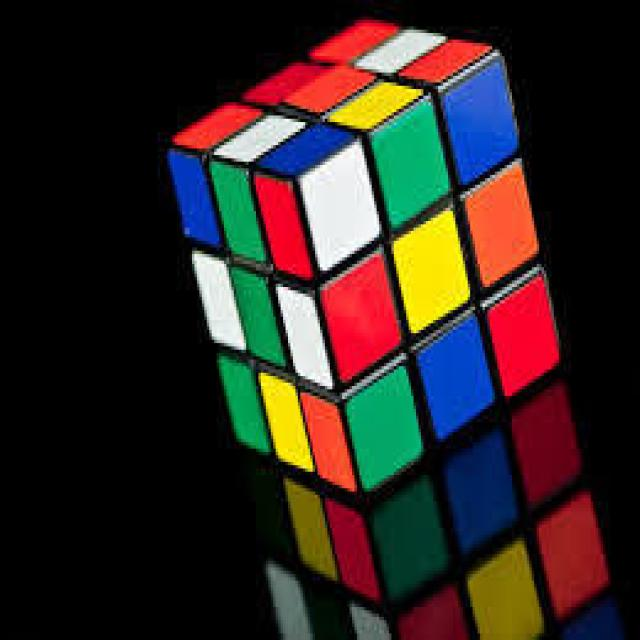Cubo-No-resuelto: (167, 20, 556, 492)
